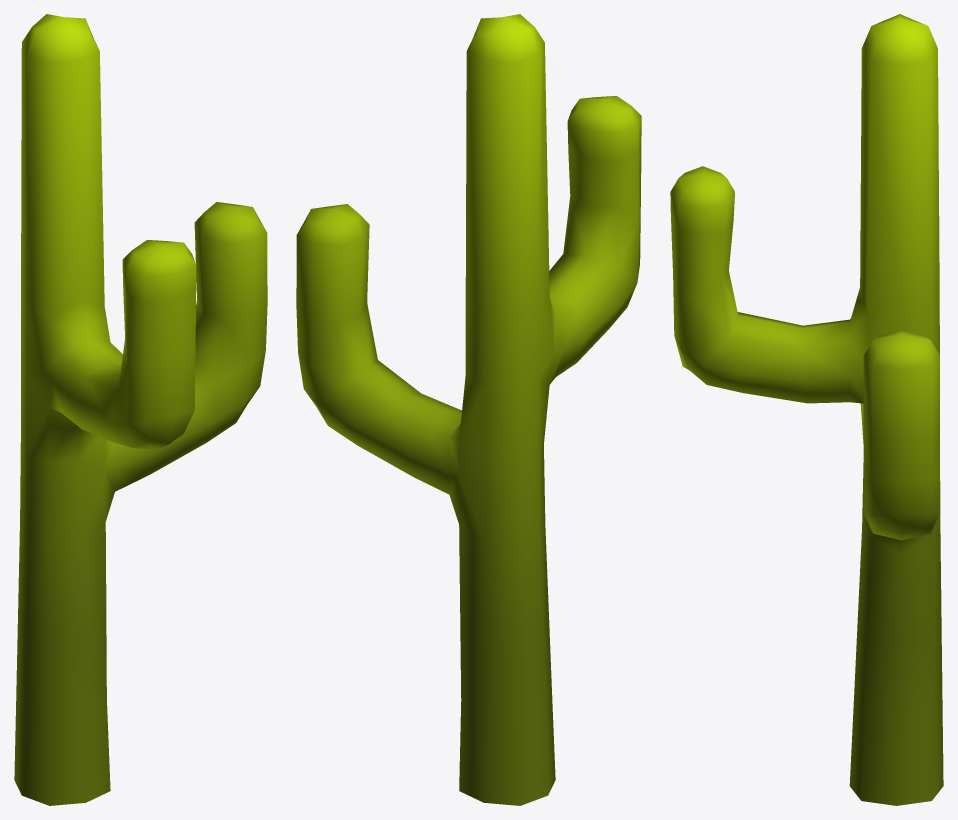
File: Kactus_A.fbx
3 renders of one model, left to right at view 1: azimuth 30°, elevation 25°; view 2: azimuth 150°, elevation 25°; view 3: azimuth 270°, elevation 25°, orthographic.
Parts seen in each view (by area): view 1: Kactus_A; view 2: Kactus_A; view 3: Kactus_A.
Boxes of the visible parts, left/top/right/bottom form: Kactus_A: left=14, top=14, right=267, bottom=805; Kactus_A: left=296, top=14, right=641, bottom=805; Kactus_A: left=670, top=14, right=943, bottom=805.
Size of the model in its own units: 91.37 by 278 by 89.64.
